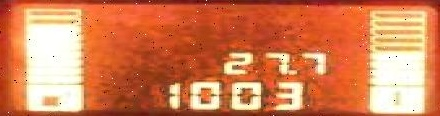-: (286, 68, 297, 73)
0: (185, 80, 219, 109), (227, 81, 261, 108)
1: (164, 81, 180, 108)
2: (219, 51, 250, 73)
3: (271, 80, 302, 109)
7: (297, 51, 325, 75), (260, 51, 289, 73)
